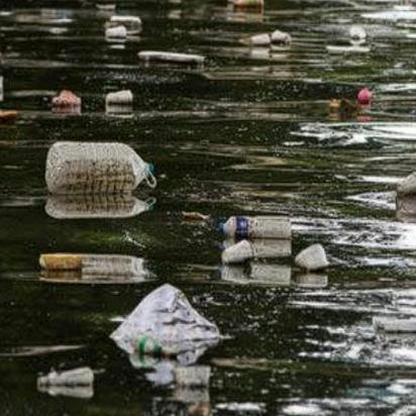plastic bag: (107, 284, 226, 357)
plastic bottle: (45, 142, 155, 188), (219, 214, 293, 239), (35, 366, 93, 385)
